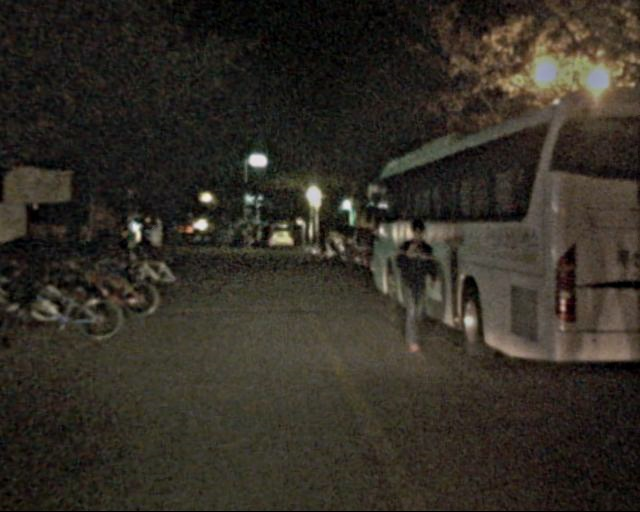person: (383, 217, 441, 359), (147, 218, 168, 270)
